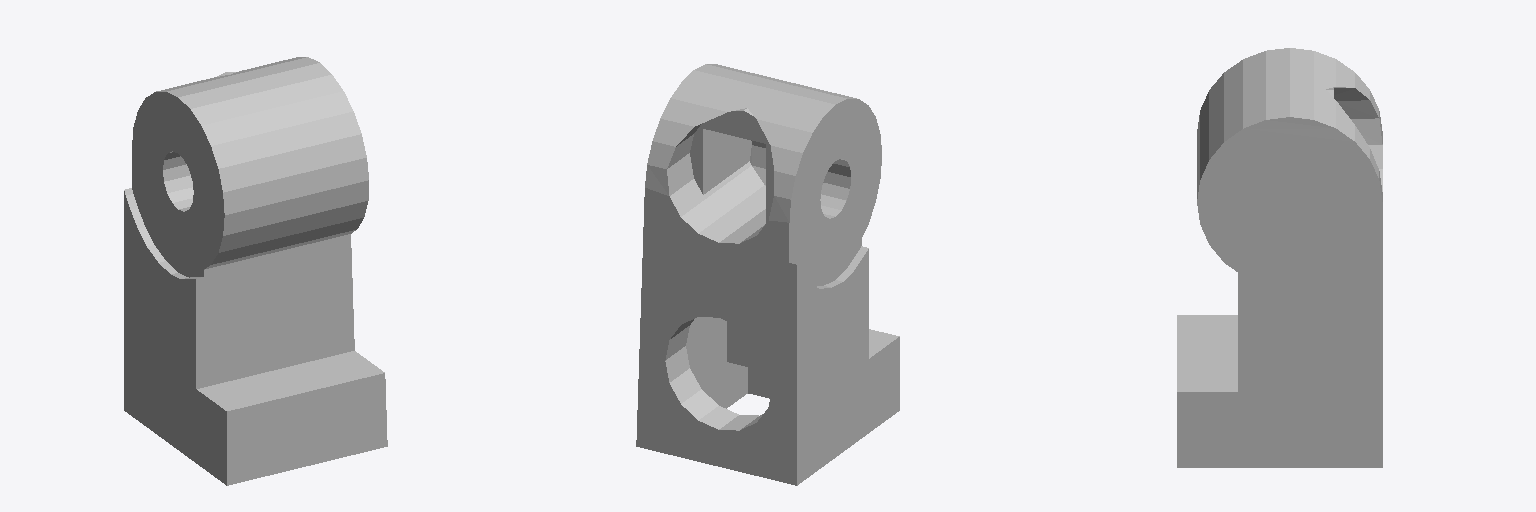
Rendered from left_leg.obj.
3 renders of one model, left to right at view 1: azimuth 30°, elevation 25°; view 2: azimuth 150°, elevation 25°; view 3: azimuth 270°, elevation 25°, orthographic.
Parts seen in each view (by area): view 1: Part.1; view 2: Part.1; view 3: Part.1.
Part boxes in pixels (x1,y1,x2,y2): Part.1: (124,57,387,485); Part.1: (636,64,899,485); Part.1: (1177,48,1382,467).
Size of the model in its own units: 7.2 by 14.78 by 7.96.